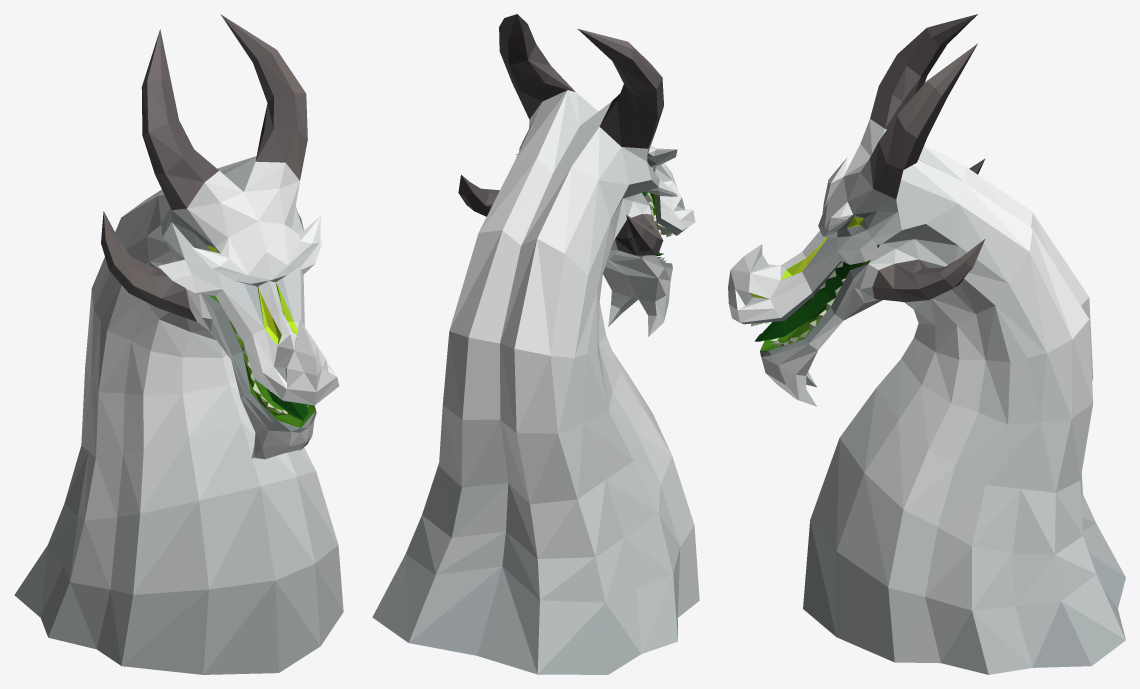
The model's file is chambers-of-xeric.gltf.
The picture shows the model from 3 angles, left to right: view 1: azimuth 30°, elevation 25°; view 2: azimuth 150°, elevation 25°; view 3: azimuth 270°, elevation 25°; orthographic projection.
Size of the model in its own units: 392 by 803 by 499.
2 materials, 2 textured.
